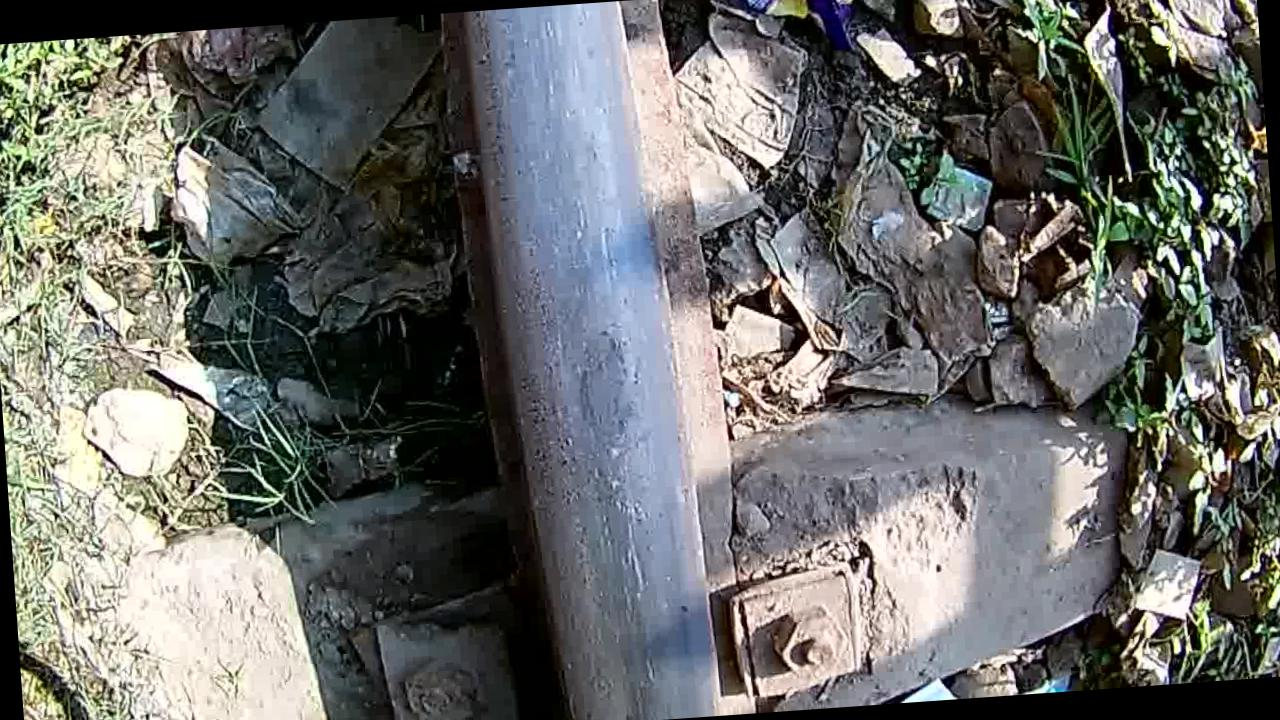bolt_missing: (502, 224, 694, 546)
